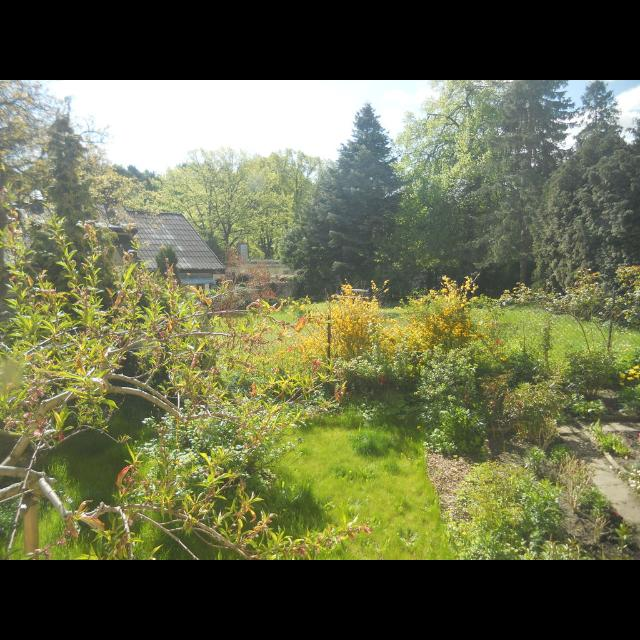Flower: (310, 356, 320, 370), (494, 337, 500, 347), (381, 377, 385, 381)
